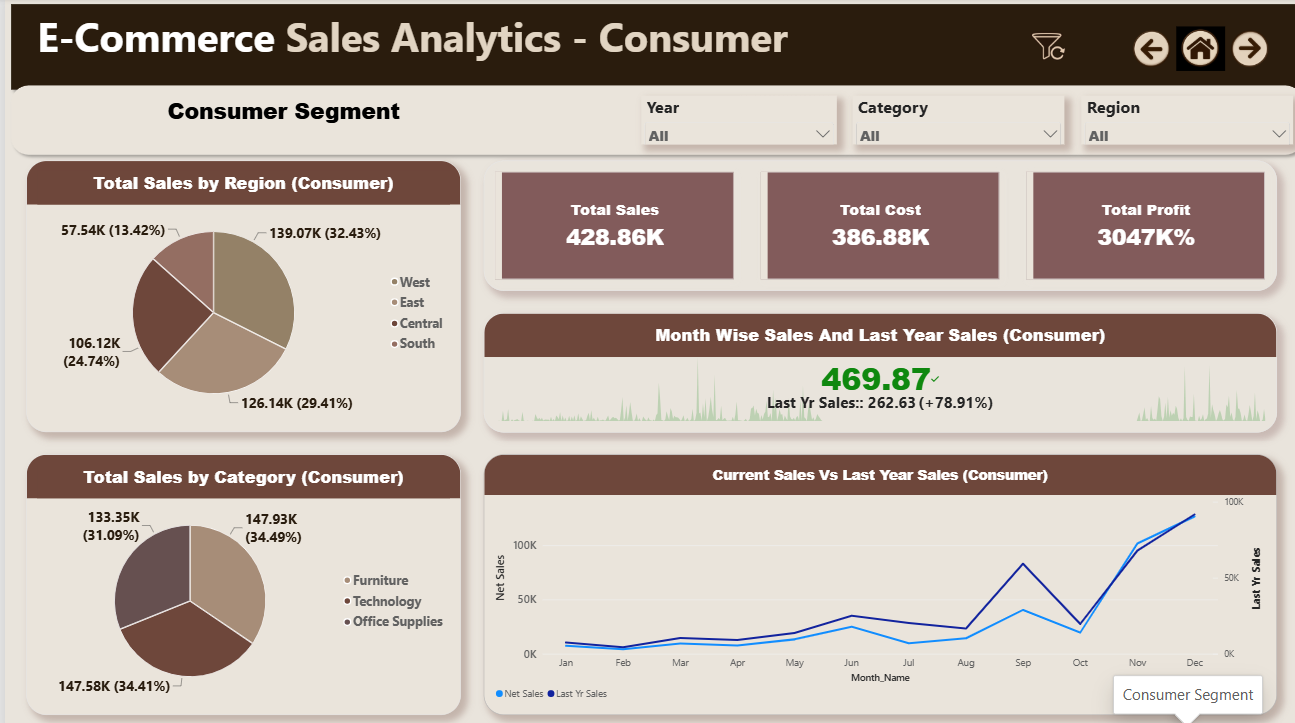

This screenshot's page, from the dashboard's own definition file:
{"tool":"powerbi","page":{"name":"Consumer Segment","canvas":[1920,1080],"ordinal":6},"visuals":[{"type":"shape","box":[0,0,1920,144],"z":0},{"type":"textbox","box":[0,16,1200,96],"z":1000},{"type":"lineChart","title":"Current Sales Vs Last Year Sales (Consumer)","fields":{"Category":["Calender.Month_Name"],"Y":["All_Measures.Net Sales"],"Y2":["All_Measures.Last Yr Sales"]},"box":[704,672,1168,384],"z":2000},{"type":"shape","box":[0,120,1920,120],"z":3000},{"type":"slicer","fields":{"Values":["Region_Data.Region"]},"box":[1584,144,312,72],"z":4000},{"type":"slicer","fields":{"Values":["Calender.Year"]},"box":[936,144,288,72],"z":5000},{"type":"slicer","fields":{"Values":["Product_Data.Category"]},"box":[1248,144,312,72],"z":6000},{"type":"textbox","box":[240,144,504,72],"z":7000},{"type":"donutChart","title":"Total Sales by Region (Consumer)","fields":{"Category":["Region_Data.Region"],"Y":["All_Measures.Total Sales"]},"box":[32,240,640,400],"z":8000},{"type":"cardVisual","title":"Moving Average Sales by Day","fields":{"Data":["All_Measures.Total Sales","All_Measures.Total Cost","All_Measures.Total Profit"]},"box":[704,240,1168,192],"z":9000},{"type":"donutChart","title":"Total Sales by Category (Consumer)","fields":{"Category":["Product_Data.Category"],"Y":["All_Measures.Total Sales"]},"box":[32,672,640,384],"z":10000},{"type":"kpi","title":"Month Wise Sales And Last Year Sales (Consumer)","fields":{"Goal":["All_Measures.Last Yr Sales"],"Indicator":["All_Measures.Total Sales"],"TrendLine":["Calender.Date"]},"box":[704,464,1168,176],"z":11000},{"type":"image","box":[1488,32,96,80],"z":12000},{"type":"image","box":[1796.4,38,72,72],"z":13000},{"type":"image","box":[1652.4,38,72,72],"z":14000},{"type":"image","box":[1724.4,38,72,72],"z":15000}]}

Visuals, with their boxes in screenshot pixels (x1, y1, x2, y2), scaled from the page's 1920x1080 canvas onto the 1295x723 screenshot:
shape: l=0, t=0, r=1294, b=96
textbox: l=0, t=11, r=809, b=75
"Current Sales Vs Last Year Sales (Consumer)" lineChart: l=475, t=450, r=1263, b=707
shape: l=0, t=80, r=1294, b=161
slicer - Region_Data.Region: l=1068, t=96, r=1279, b=145
slicer - Calender.Year: l=631, t=96, r=826, b=145
slicer - Product_Data.Category: l=842, t=96, r=1052, b=145
textbox: l=162, t=96, r=502, b=145
"Total Sales by Region (Consumer)" donutChart: l=22, t=161, r=453, b=428
"Moving Average Sales by Day" cardVisual: l=475, t=161, r=1263, b=289
"Total Sales by Category (Consumer)" donutChart: l=22, t=450, r=453, b=707
"Month Wise Sales And Last Year Sales (Consumer)" kpi: l=475, t=311, r=1263, b=428
image: l=1004, t=21, r=1068, b=75
image: l=1212, t=25, r=1260, b=74
image: l=1115, t=25, r=1163, b=74
image: l=1163, t=25, r=1212, b=74
